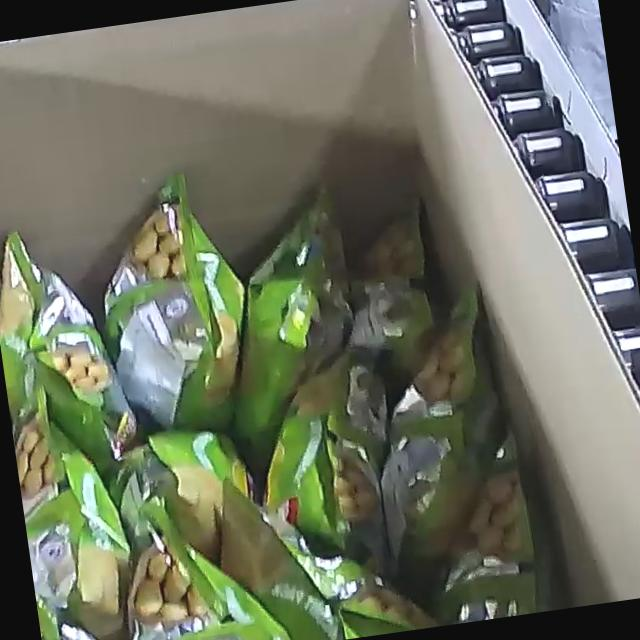yogurt: (0, 126, 547, 640)
